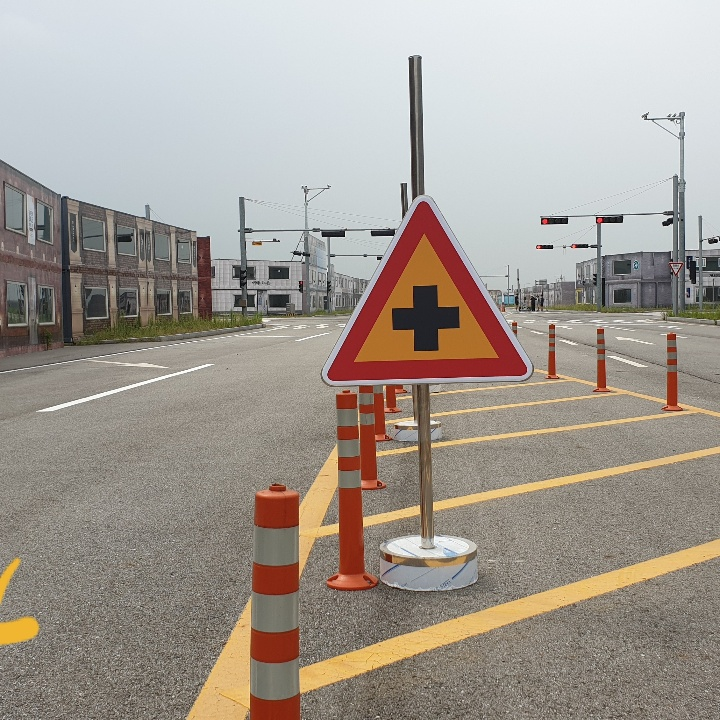inter: (386, 280, 463, 356)
